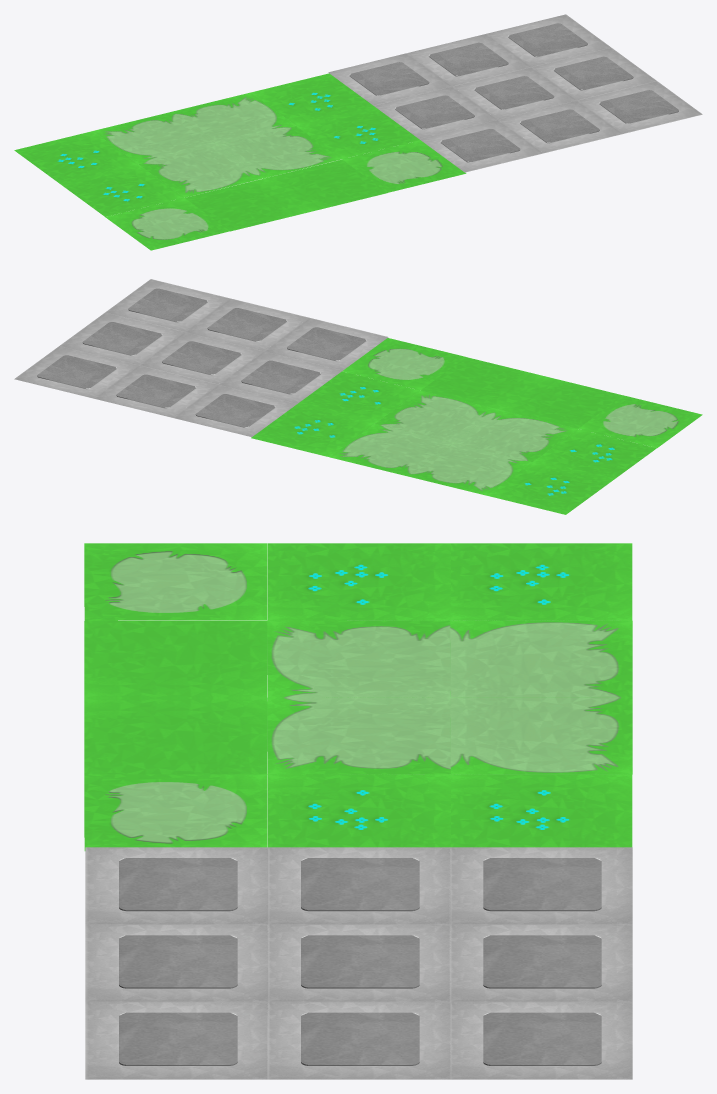
Rendered from buenavistaQuindio.glb.
The picture shows the model from 3 angles, top to bottom: view 1: azimuth 30°, elevation 25°; view 2: azimuth 150°, elevation 25°; view 3: azimuth 270°, elevation 25°; orthographic projection. The views are drawn at different scales.
Visible parts, largest first — view 1: tierra_3.001; view 2: tierra_3.001; view 3: tierra_3.001.
Part boxes in pixels (<box>): tierra_3.001: <box>14,14,702,250</box>; tierra_3.001: <box>14,279,702,514</box>; tierra_3.001: <box>84,543,632,1079</box>.
Size of what is drawn, in the model's own units: 445 by 1.54 by 192.
Materials: 30 (30 with a texture image).
